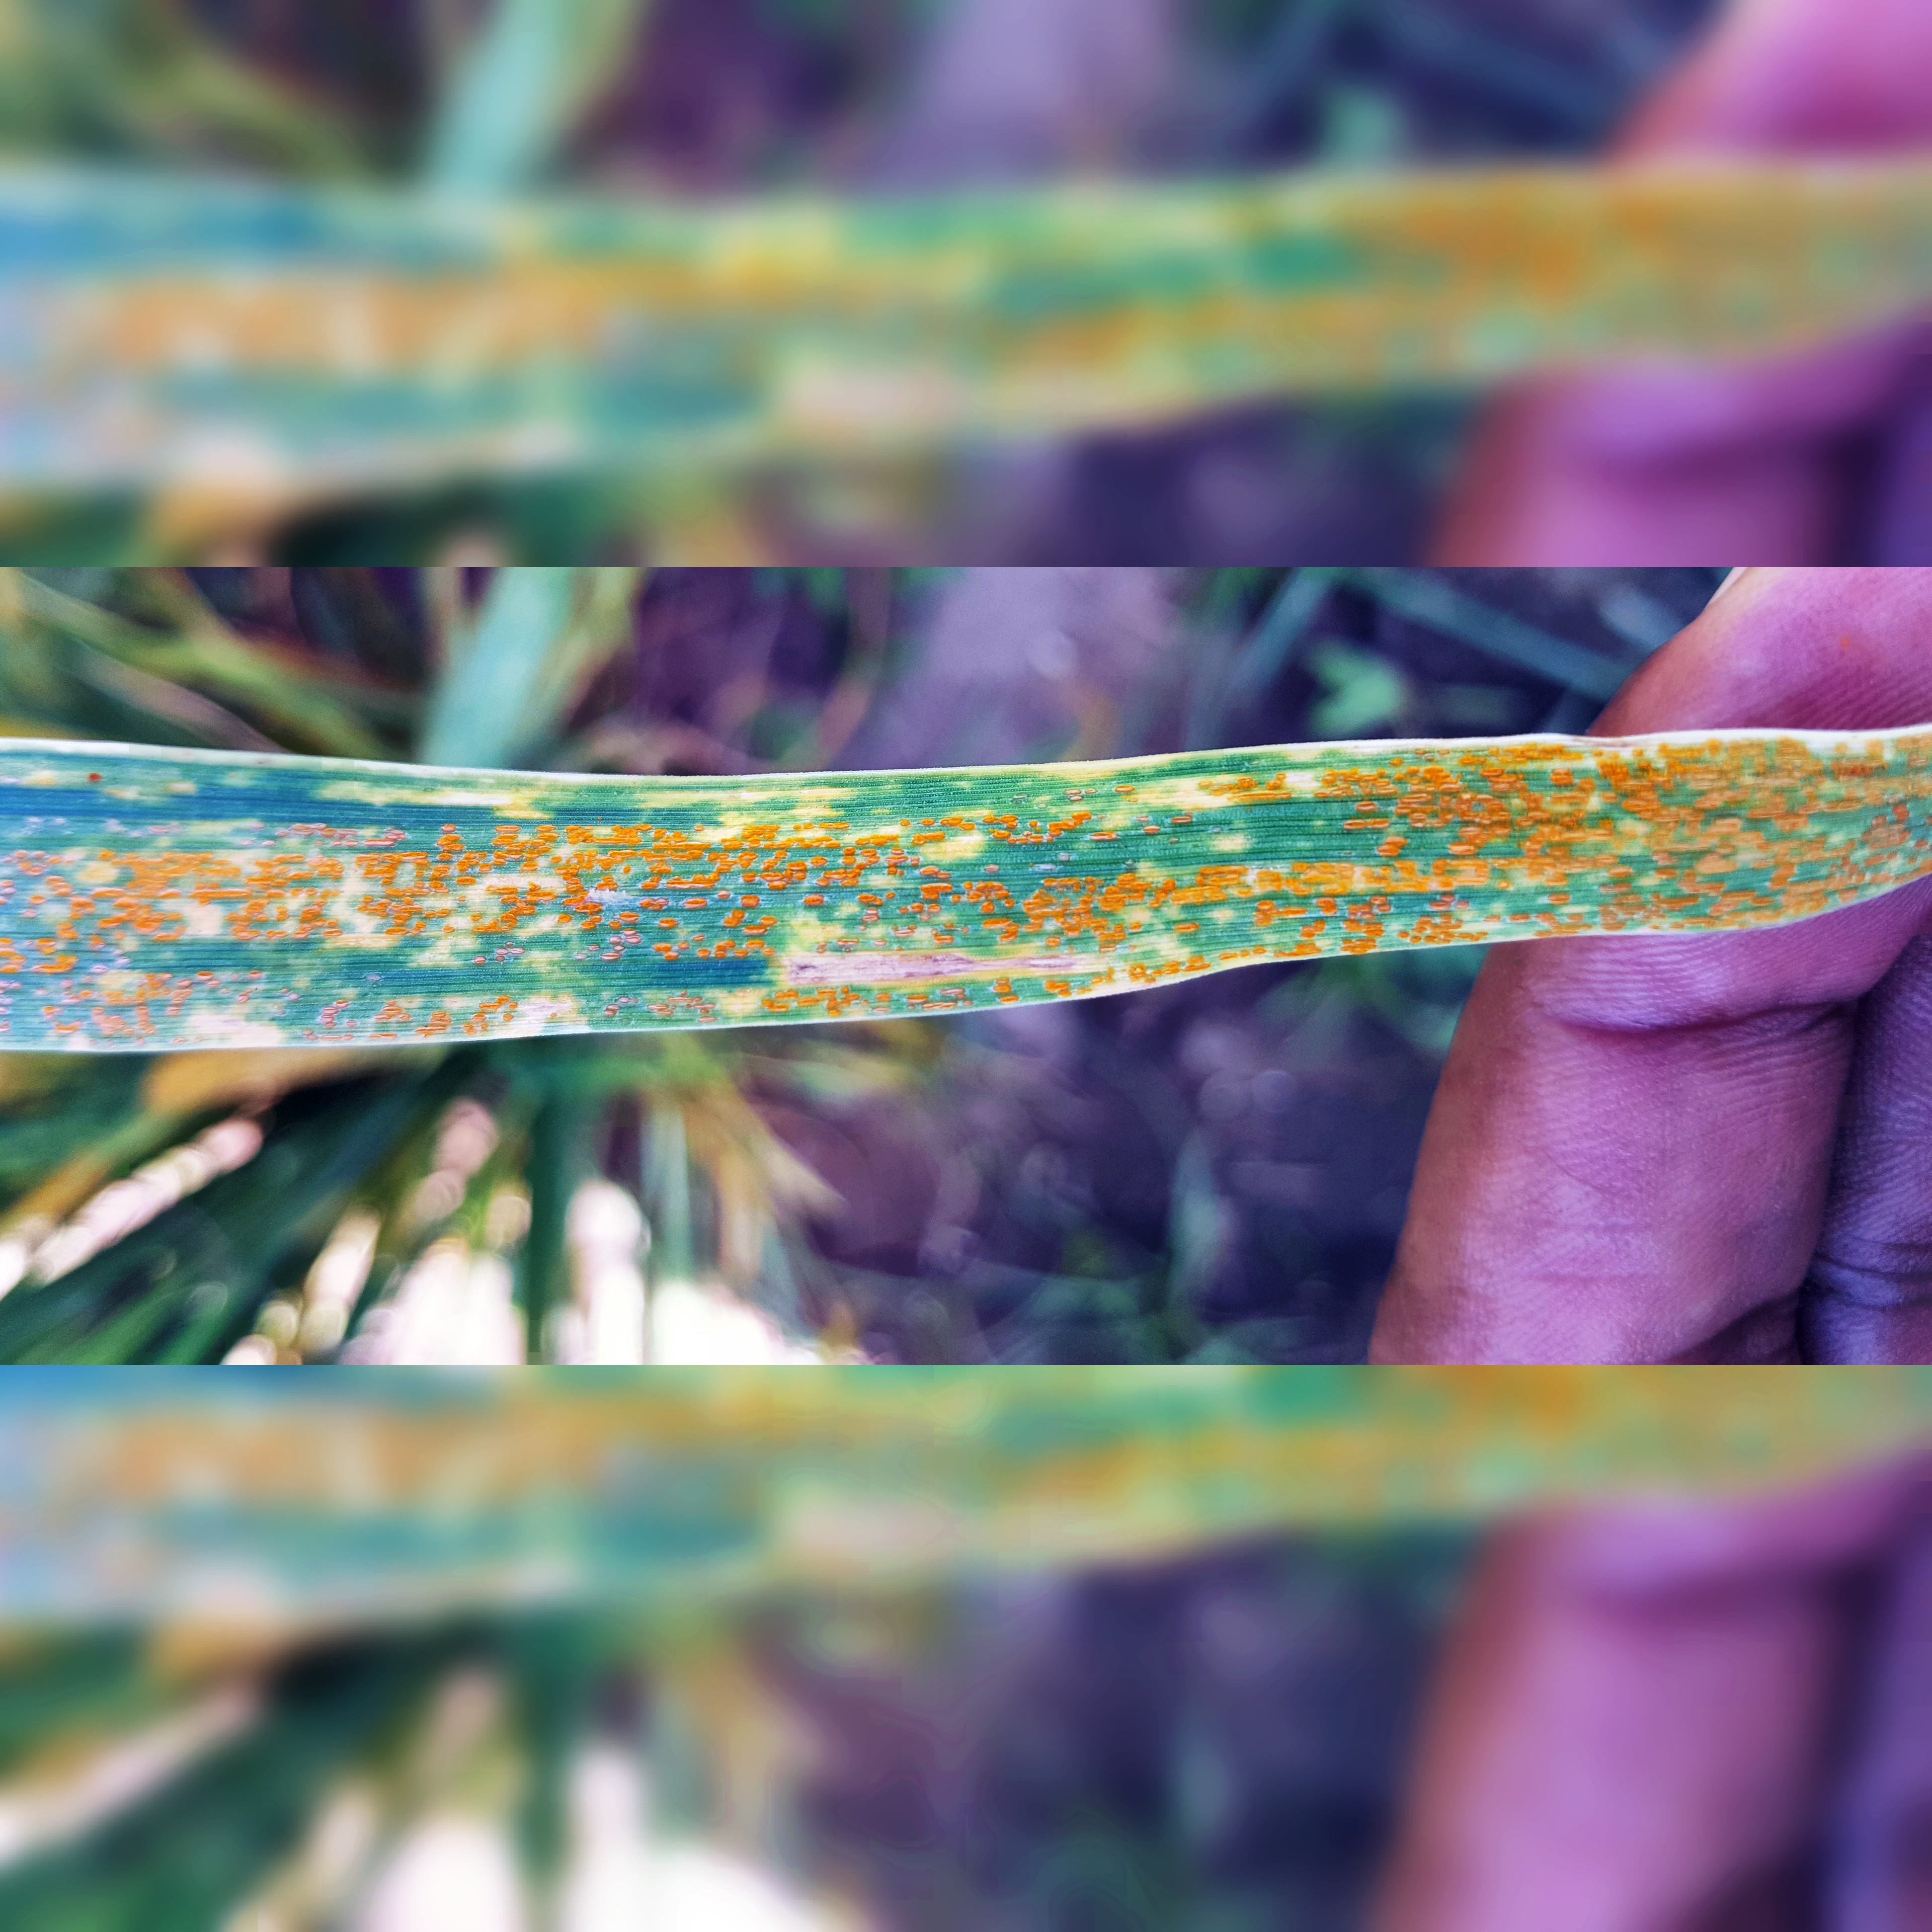Leaf Rust: (35, 709, 1932, 1069)
